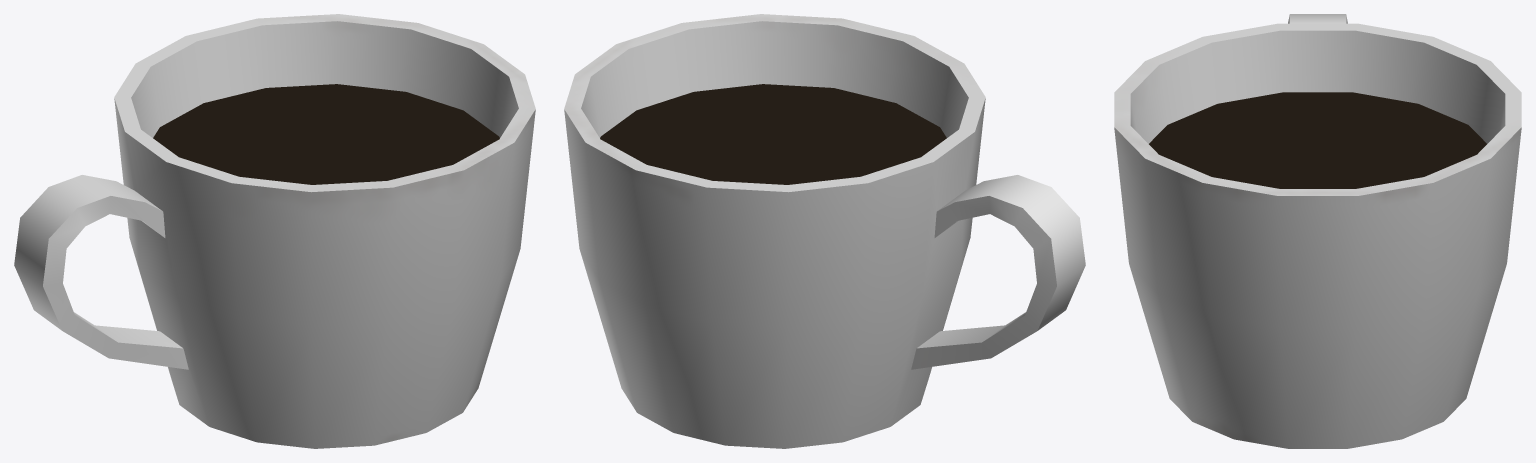
The model's file is CupE.FBX.
The picture shows the model from 3 angles, left to right: view 1: azimuth 30°, elevation 25°; view 2: azimuth 150°, elevation 25°; view 3: azimuth 270°, elevation 25°; orthographic projection.
Visible parts, largest first — view 1: CupE_LOD0; view 2: CupE_LOD0; view 3: CupE_LOD0.
Boxes of the visible parts, x1,y1,x2,y2 form: CupE_LOD0: (14,14,535,448); CupE_LOD0: (564,14,1085,448); CupE_LOD0: (1114,14,1521,448).
Size of what is drawn, in the model's own units: 11.71 by 6.6 by 8.83.
